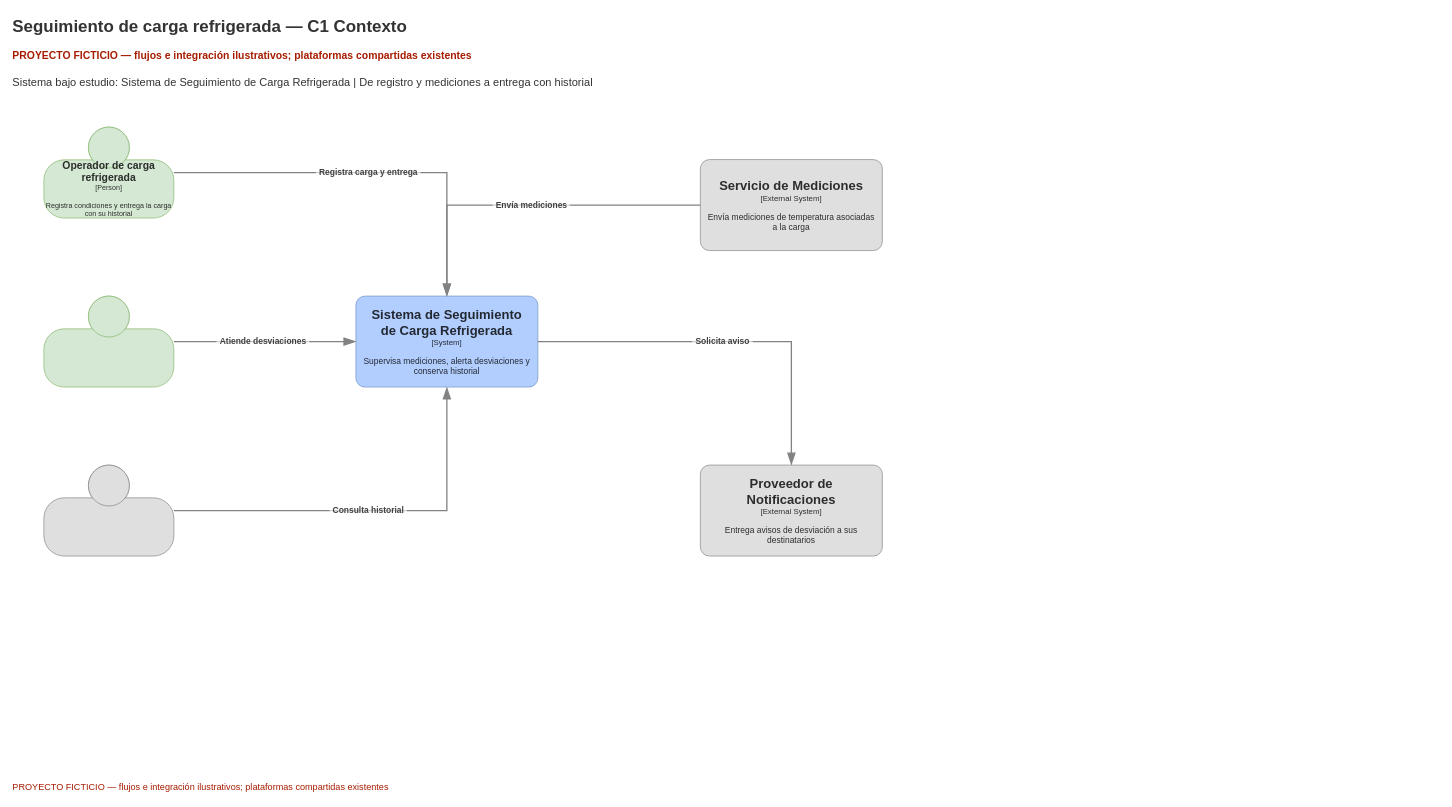
Some shapes in this 1452 by 807 pixel diagram are drawn without their labels. The shapes that lost their labels are listed below. From the top down, each one's centre as x and y in pixels, then its label:
At (x=108, y=341): "Supervisor de operaciones [Person] Revisa y resuelve desviaciones de temperatura".
At (x=108, y=510): "Cliente de carga [External Person] Consulta estado e historial de la carga".
